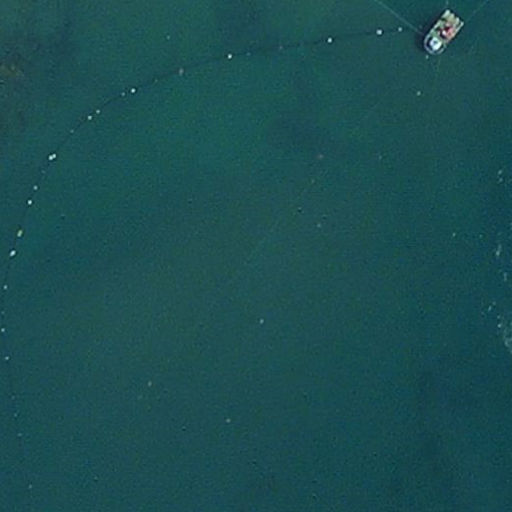ship: (420, 8, 467, 59)
